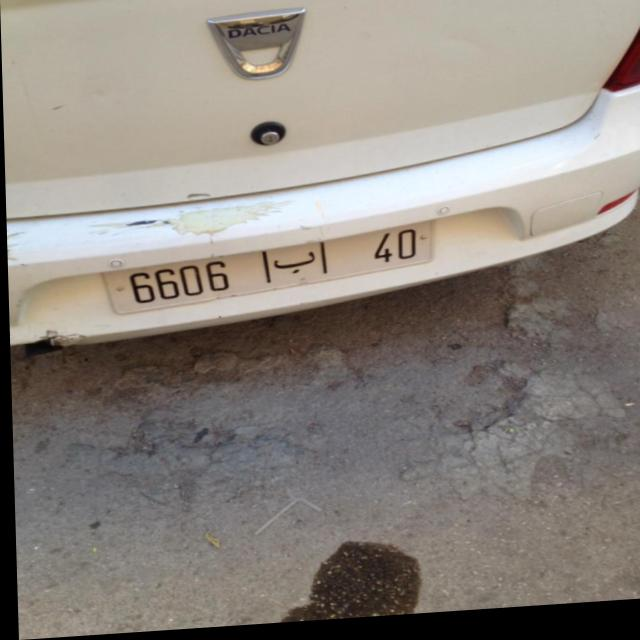License-Plate: (102, 228, 430, 315)
